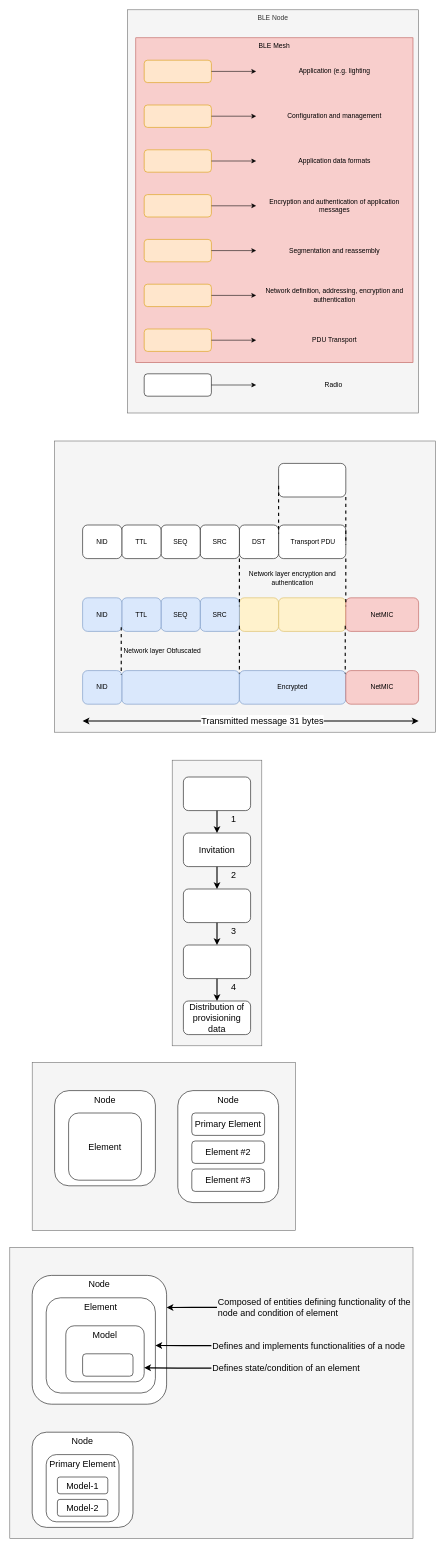
Some shapes in this 445 by 1548 pixel diagram are drawn without their labels. Here are the shapes that lost their labels. From the top down, the centre of each, then its label:
At pixel 177 71: "Models".
At pixel 177 115: "Foundation models".
At pixel 177 160: "Access layer".
At pixel 177 205: "Upper transport layer".
At pixel 177 250: "Lower transport layer".
At pixel 177 295: "Network layer".
At pixel 177 339: "Bearer layer".
At pixel 177 384: "BLE".
At pixel 312 480: "Lower Transport PDU".
At pixel 259 614: "Encrypted DST".
At pixel 312 614: "Encrypted Transport PDU".
At pixel 180 687: "Obfuscated".
At pixel 217 793: "Beaconing".
At pixel 217 905: "Exchange Public keys".
At pixel 217 961: "Authentication".
At pixel 107 1364: "States".
